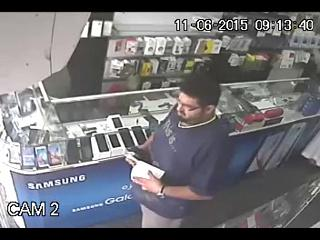shoplifting: (126, 64, 234, 228)
